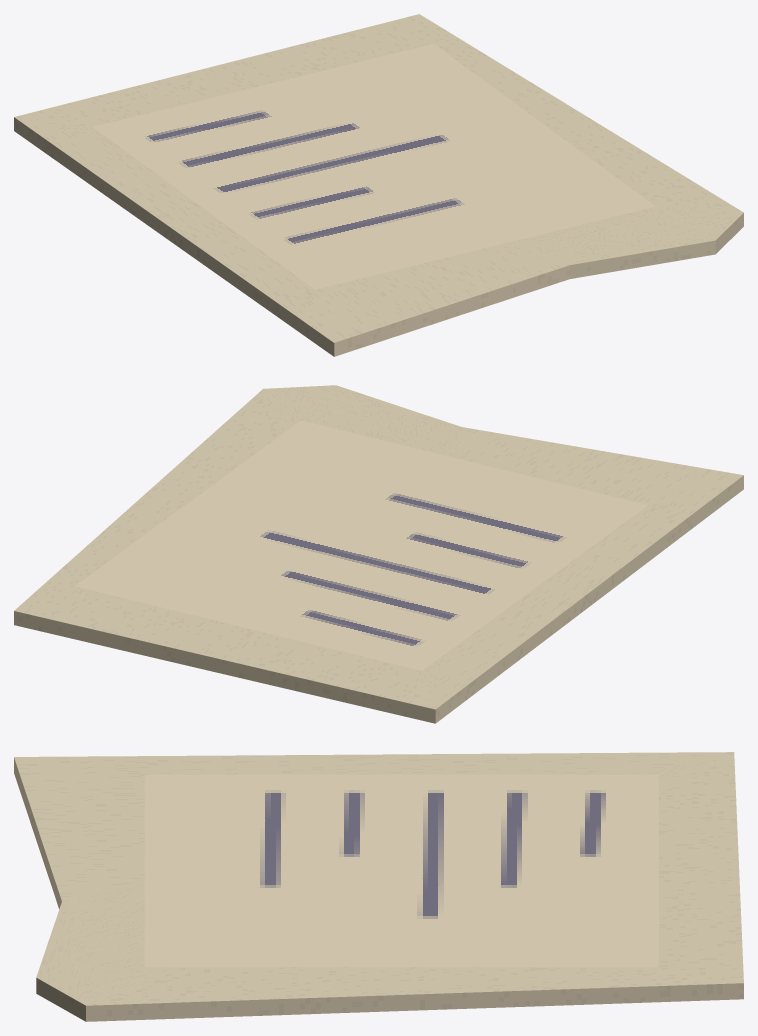
Rendered from childnote.glb.
3 renders of one model, top to bottom at view 1: azimuth 30°, elevation 25°; view 2: azimuth 150°, elevation 25°; view 3: azimuth 270°, elevation 25°, orthographic. The views are drawn at different scales.
Visible parts, largest first — view 1: block_handwritten colored marks, block_child’s ragged paper note; view 2: block_handwritten colored marks, block_child’s ragged paper note; view 3: block_handwritten colored marks, block_child’s ragged paper note.
Part boxes in pixels (x1,y1,x2,y2): block_handwritten colored marks: (93,44,655,289); block_child’s ragged paper note: (14,14,743,356); block_handwritten colored marks: (75,420,647,670); block_child’s ragged paper note: (14,385,743,723); block_handwritten colored marks: (144,774,658,967); block_child’s ragged paper note: (14,752,743,1021).
Bounding box in the file's own units: 0.0294 × 0.00105 × 0.0358.
1 material, 1 textured.
